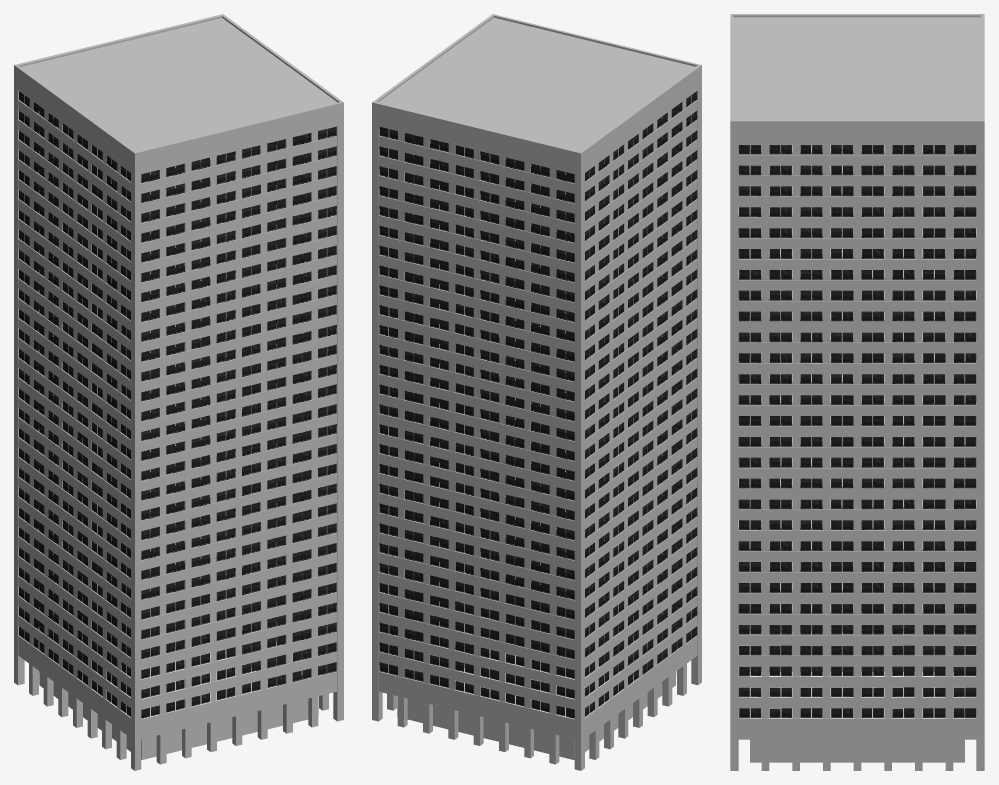
The picture shows the model from 3 angles, left to right: view 1: azimuth 30°, elevation 25°; view 2: azimuth 150°, elevation 25°; view 3: azimuth 270°, elevation 25°; orthographic projection. The views are drawn at different scales.
Visible parts, largest first — view 1: EC-006; view 2: EC-006; view 3: EC-006.
Boxes of the visible parts, <box> form: EC-006: <box>14,14,343,770</box>; EC-006: <box>372,14,701,770</box>; EC-006: <box>730,14,984,770</box>.
Size of what is drawn, in the model's own units: 33.09 by 93.38 by 33.12.
